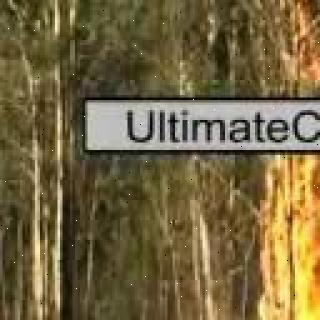fire: (262, 153, 320, 320), (281, 10, 320, 84)
